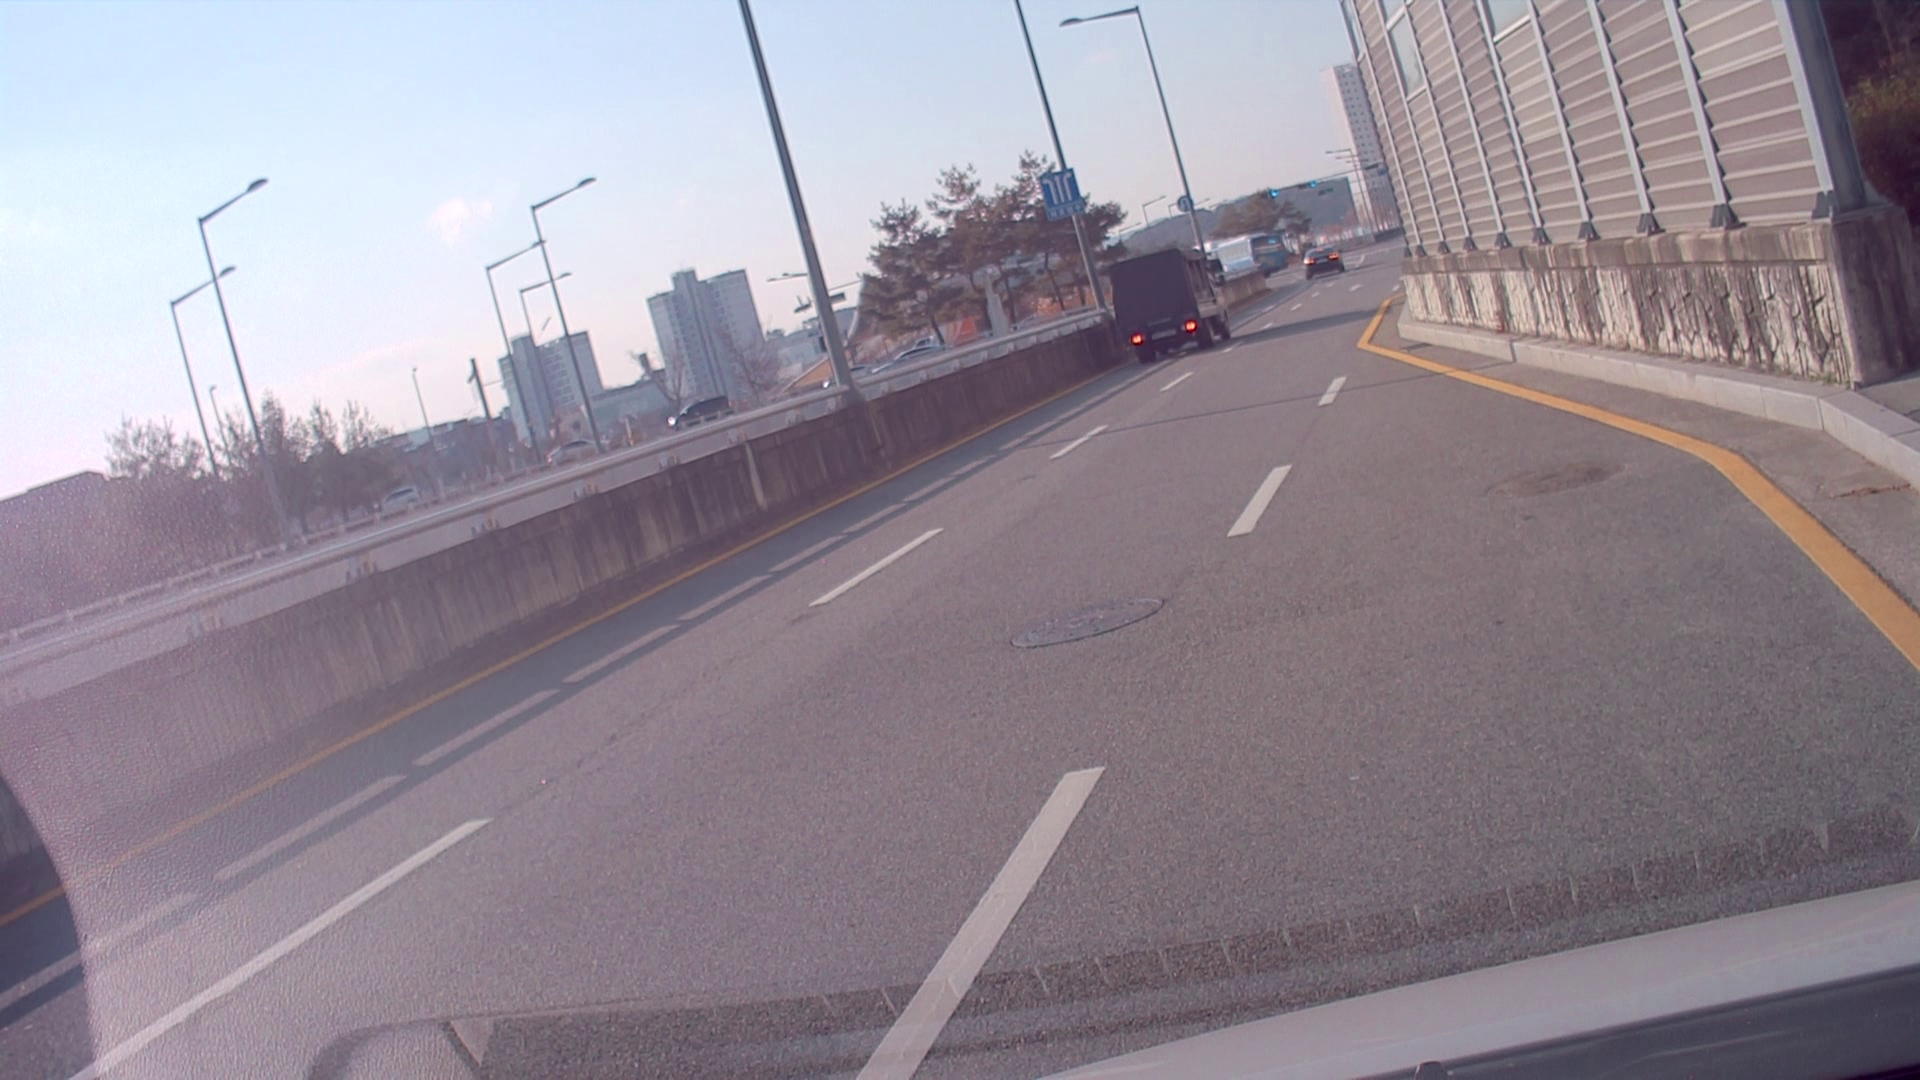trafficLight: (1257, 175, 1325, 203)
trafficSignRTG: (1034, 164, 1087, 222)
